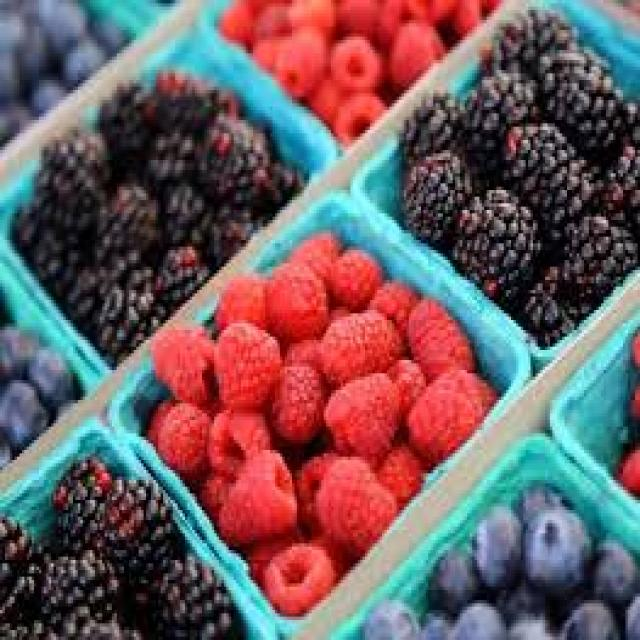organic waste: (538, 50, 635, 160), (499, 116, 594, 226), (448, 187, 540, 293), (90, 470, 170, 590), (460, 70, 538, 180), (404, 363, 492, 457), (212, 447, 292, 543), (314, 453, 394, 547), (146, 550, 231, 637), (190, 103, 268, 197), (246, 520, 343, 593), (32, 123, 107, 217), (516, 500, 586, 600), (324, 370, 399, 463), (552, 214, 638, 294), (90, 177, 156, 280), (397, 147, 467, 240), (482, 3, 577, 70), (32, 544, 119, 614), (58, 254, 134, 334), (49, 457, 112, 550), (212, 317, 277, 403), (406, 290, 474, 370), (27, 216, 95, 296), (97, 280, 161, 363), (149, 320, 214, 400), (212, 153, 302, 210), (263, 256, 326, 336), (518, 260, 582, 337), (204, 403, 268, 480), (0, 513, 39, 637), (134, 63, 209, 127), (39, 593, 148, 637), (262, 363, 324, 440), (396, 86, 464, 156), (266, 540, 334, 610), (382, 10, 448, 80), (187, 200, 258, 263), (470, 500, 518, 590), (292, 447, 343, 530), (572, 527, 637, 590), (596, 130, 638, 227), (324, 240, 382, 310), (151, 403, 204, 477), (316, 310, 368, 380), (153, 180, 210, 240), (372, 433, 423, 500), (0, 373, 46, 447), (496, 577, 560, 630), (326, 33, 385, 90), (148, 244, 204, 304), (141, 127, 200, 183), (275, 34, 328, 94), (368, 277, 418, 340), (280, 337, 348, 383), (426, 543, 474, 607), (56, 30, 117, 80), (24, 344, 73, 404), (287, 223, 338, 280), (378, 353, 423, 417), (328, 93, 387, 140), (31, 0, 95, 43), (217, 270, 265, 327), (555, 590, 613, 637), (0, 316, 41, 376), (362, 596, 418, 636), (12, 20, 51, 77), (445, 600, 504, 637), (365, 313, 404, 367), (10, 200, 44, 260), (141, 390, 180, 437), (90, 7, 139, 43), (333, 0, 378, 37), (372, 0, 404, 50), (448, 0, 501, 30), (192, 470, 231, 510), (251, 0, 292, 37), (214, 0, 251, 40), (285, 0, 333, 30), (302, 74, 338, 114), (0, 30, 22, 93), (613, 437, 638, 490), (0, 96, 32, 136), (246, 33, 277, 70), (399, 0, 455, 20), (19, 77, 61, 103), (618, 586, 638, 636), (419, 610, 455, 637), (204, 83, 236, 110), (0, 0, 32, 27), (623, 380, 638, 437), (46, 393, 73, 420), (626, 327, 638, 370), (0, 430, 12, 463), (324, 300, 348, 313)
